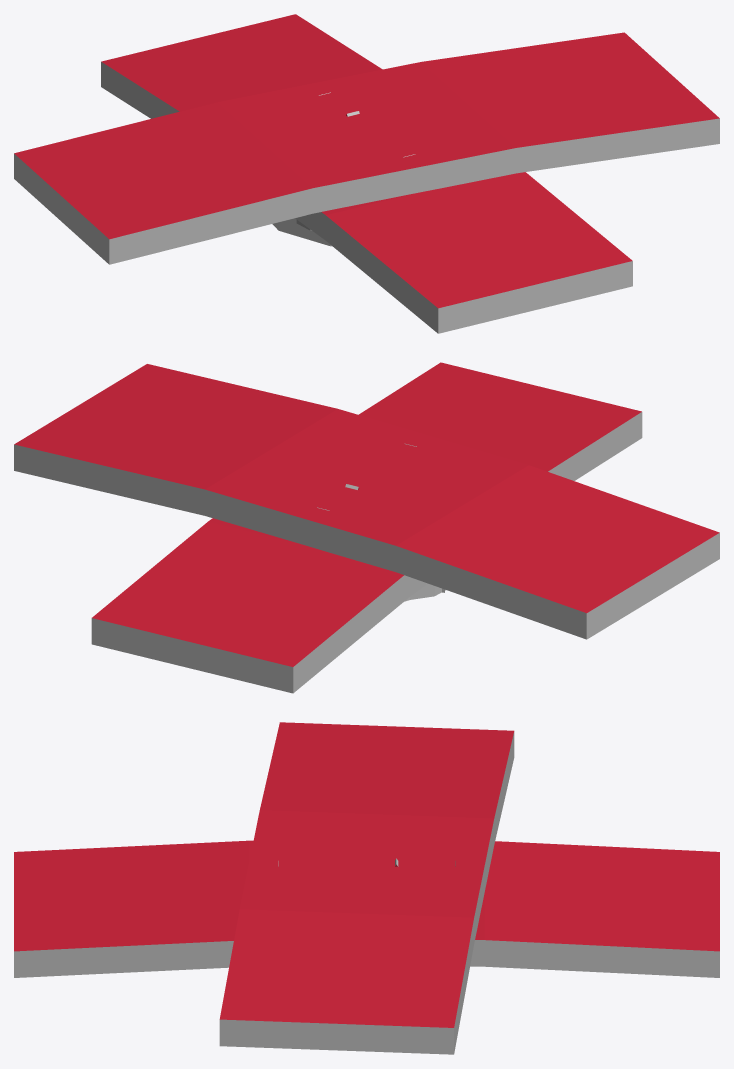
Rendered from menu.fbx.
3 views of the same model, one above another, from view 1: azimuth 30°, elevation 25°; view 2: azimuth 150°, elevation 25°; view 3: azimuth 270°, elevation 25° (orthographic). The views are drawn at different scales.
Visible parts, largest first — view 1: Plane, Cylinder.001; view 2: Plane; view 3: Plane.
Boxes of the visible parts, x1,y1,x2,y2 form: Plane: (14, 14, 719, 333); Cylinder.001: (272, 218, 331, 246); Plane: (14, 362, 719, 693); Plane: (14, 722, 719, 1054).
Bounding box in the file's own units: 615 × 600 × 77.38.
